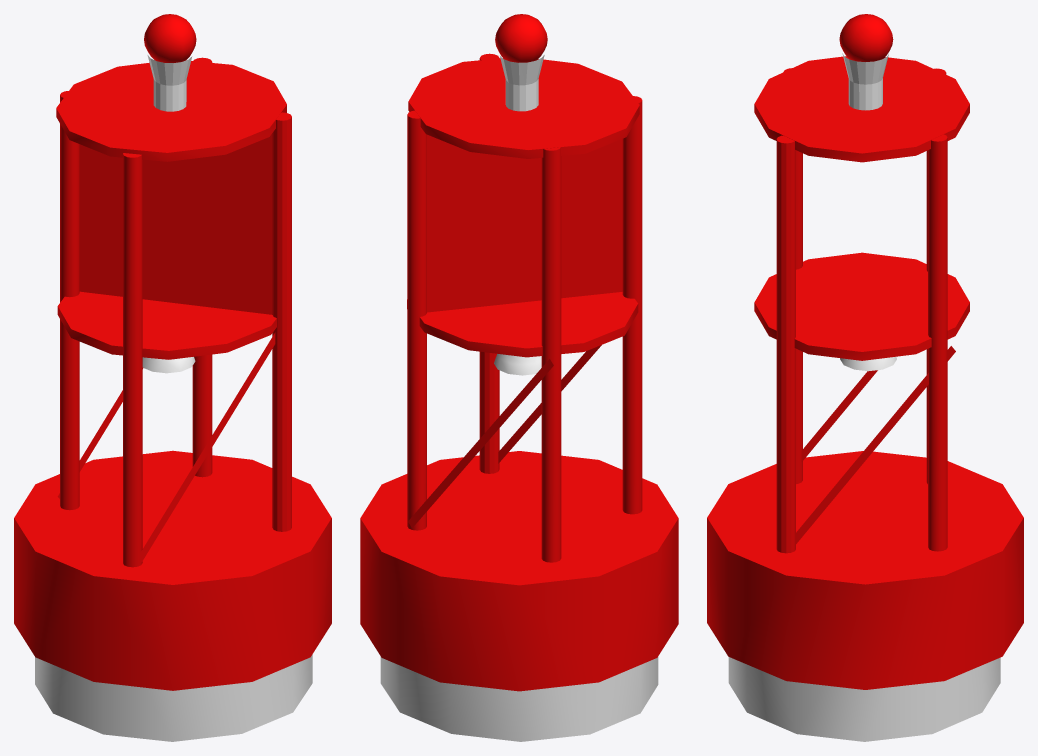
File: buoyR.glb
3 renders of one model, left to right at view 1: azimuth 30°, elevation 25°; view 2: azimuth 150°, elevation 25°; view 3: azimuth 270°, elevation 25°, orthographic.
Size of the model in its own units: 0.325 by 0.7532 by 0.325.
